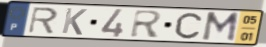4: (99, 7, 126, 39)
C: (173, 11, 203, 40)
K: (59, 7, 89, 37)
M: (200, 11, 241, 44)
R: (128, 9, 164, 39), (27, 6, 60, 35)
